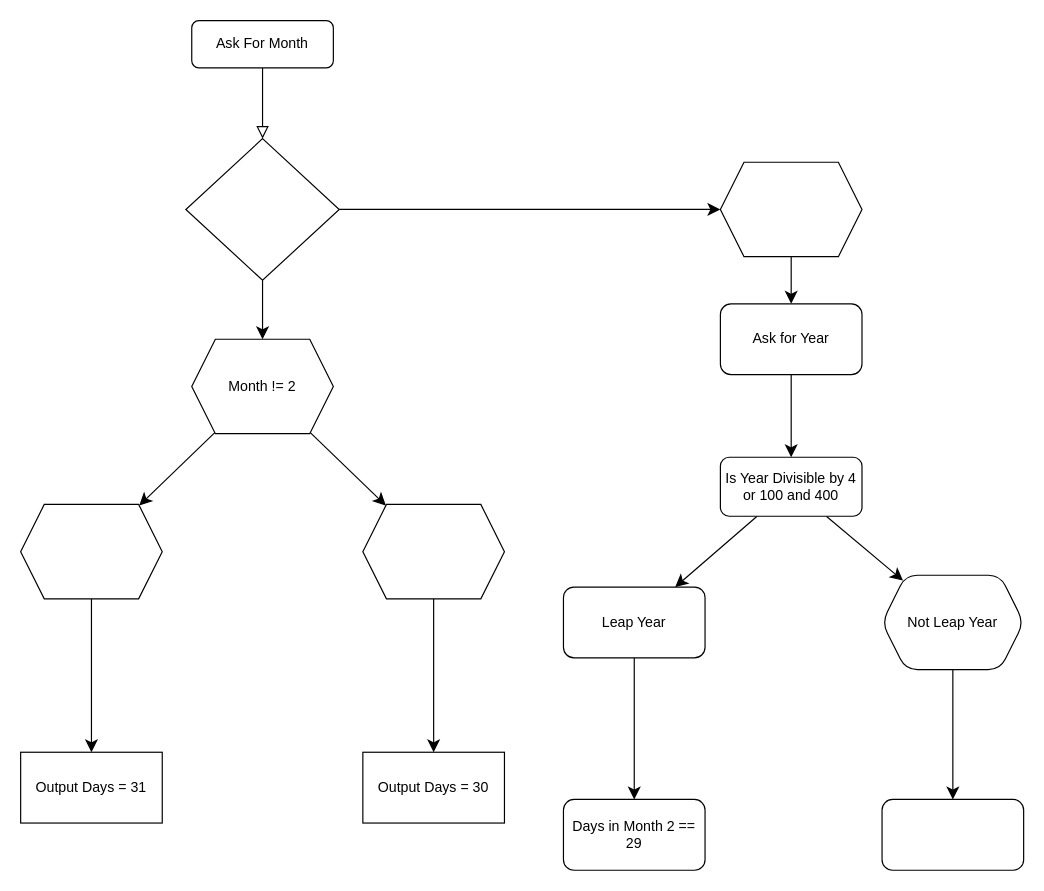
The diagram is 1044 pixels wide and 891 high, and some of its shapes have lost their labels. Here are the shapes that lost their labels. From the top down, the centre of each, then its label:
the point at 262,208: Receive Month Input
the point at 790,209: Month = 2
the point at 90,551: Month == 1, 3, 5, 7, 8, 10, or 12
the point at 433,551: Month == 4, 6, 9, or 11
the point at 952,834: Days In Month 2 == 28
